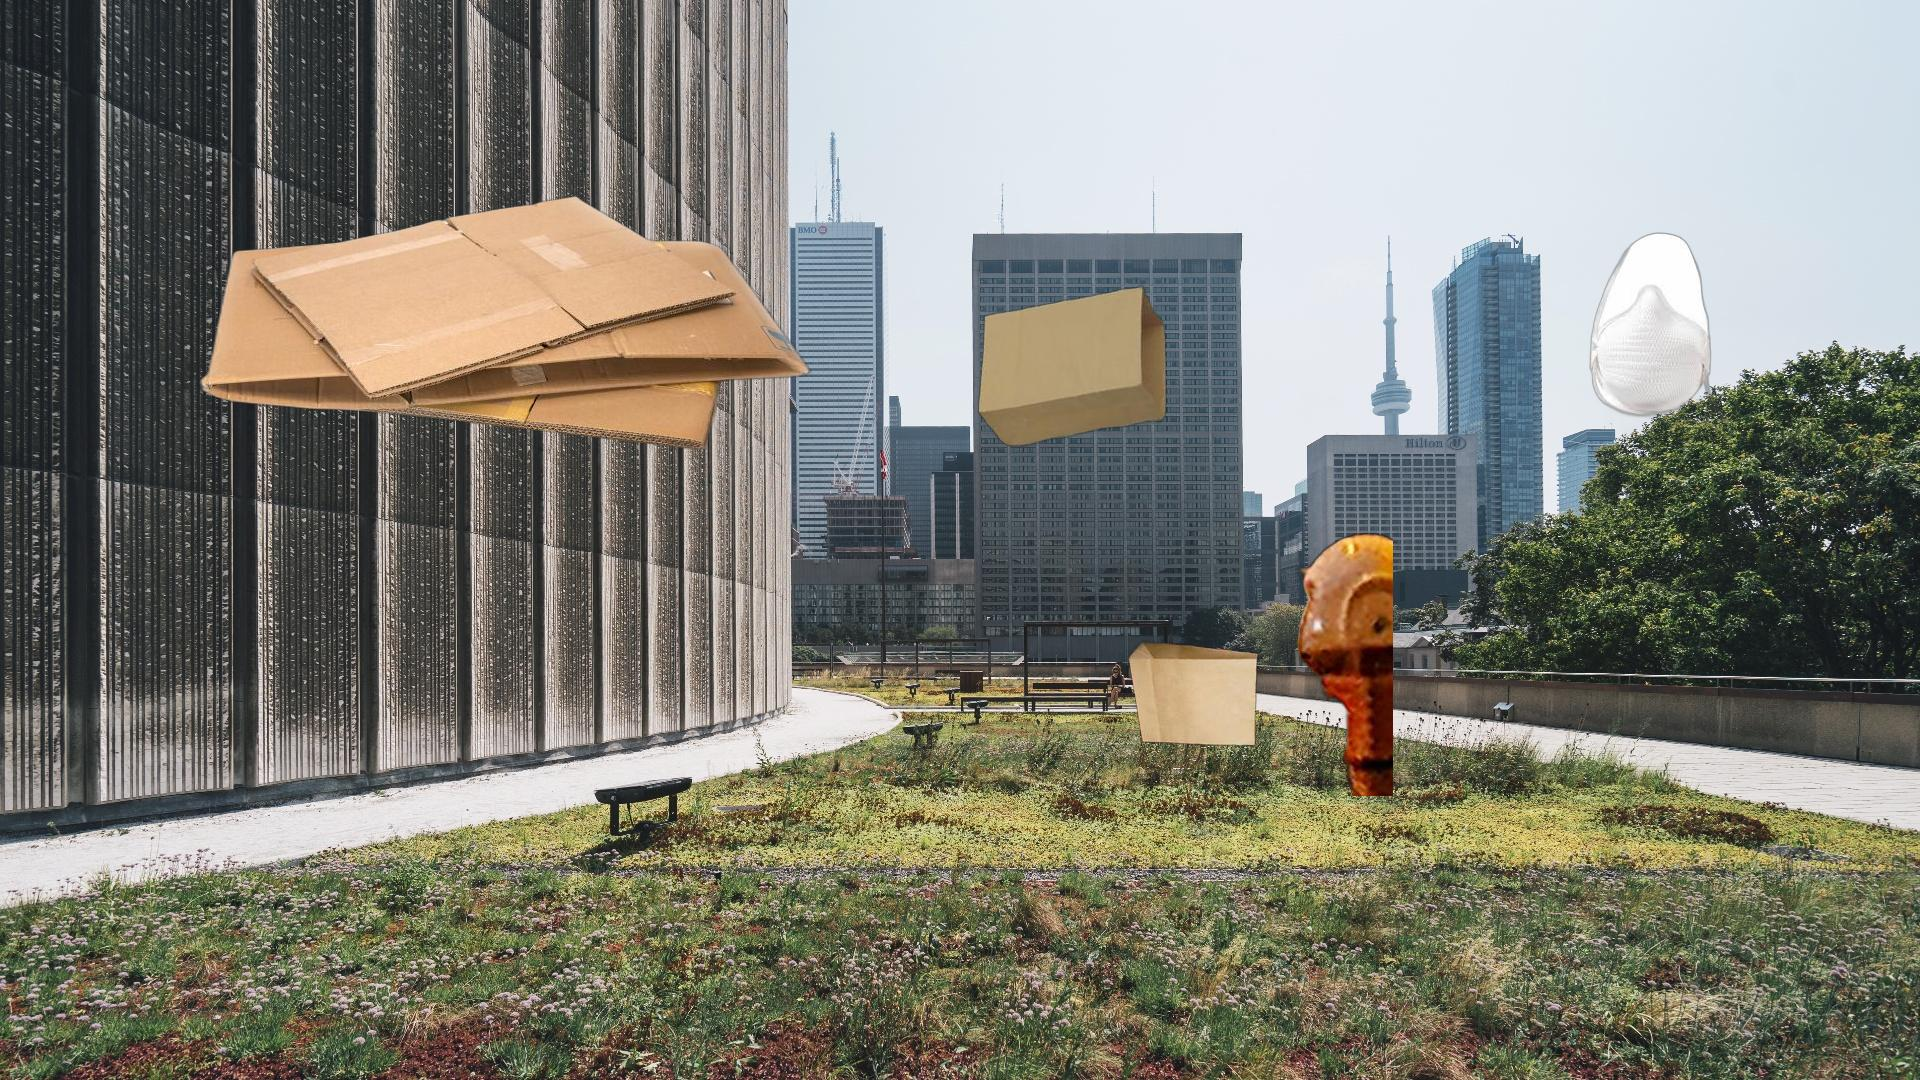paper-bag: (1126, 530, 1393, 796), (975, 280, 1168, 448)
trash: (1543, 229, 1734, 450)
trashbox-cardboard: (195, 194, 815, 452)
